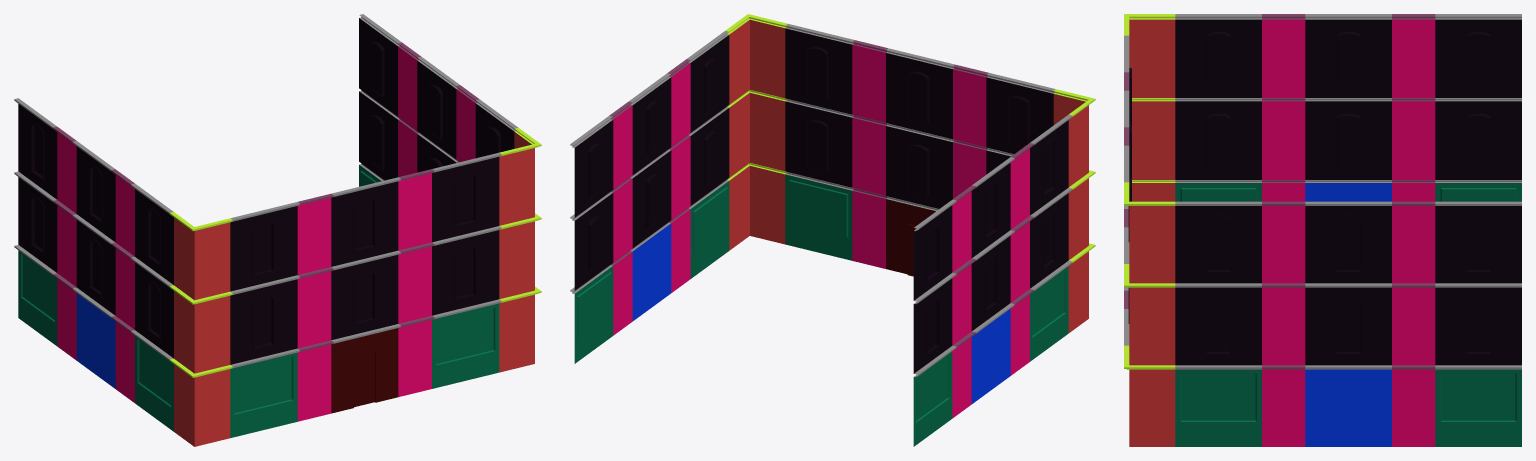
The model's file is Дом.FBX.
3 renders of one model, left to right at view 1: azimuth 30°, elevation 25°; view 2: azimuth 150°, elevation 25°; view 3: azimuth 270°, elevation 25°, orthographic. The views are drawn at different scales.
Visible parts, largest first — view 1: Окно_005, Окно_009, Окно_020, Окно_021, Окно_022, Окно_007, Окно_008, Окно_010, Дверь_002, Угол_П005, Угол_П006, Угол_П004 (+32 smaller); view 2: Окно_008, Окно_010, Окно_005, Окно_009, Окно_007, Окно_022, Угол_П001, Угол_П003, Угол_П002, Окно_013, Окно_014, Окно_017 (+36 smaller); view 3: Окно_014, Окно_015, Окно_019, Окно_025, Окно_026, Окно_027, Окно_028, Окно_029, Окно_030, Окно_012, Окно_013, Окно_016 (+37 smaller).
Part boxes in pixels (x1,y1,x2,y2): Окно_005: (432, 303, 499, 388); Окно_009: (331, 181, 398, 266); Окно_020: (230, 352, 297, 437); Окно_021: (230, 279, 297, 364); Окно_022: (230, 206, 297, 291); Окно_007: (331, 255, 398, 339); Окно_008: (432, 230, 499, 315); Окно_010: (432, 157, 499, 242); Дверь_002: (331, 328, 398, 413); Угол_П005: (174, 291, 230, 373); Угол_П006: (174, 218, 230, 300); Угол_П004: (174, 364, 230, 446); Окно_008: (785, 101, 852, 187); Окно_010: (785, 28, 852, 114); Окно_005: (785, 174, 852, 260); Окно_009: (886, 53, 952, 139); Окно_007: (886, 126, 952, 208); Окно_022: (986, 77, 1053, 153); Угол_П001: (729, 166, 785, 250); Угол_П003: (729, 19, 785, 104); Угол_П002: (729, 93, 785, 177); Окно_013: (690, 181, 729, 278); Окно_014: (632, 150, 671, 248); Окно_017: (574, 120, 613, 217); Окно_014: (1305, 287, 1391, 365); Окно_015: (1435, 287, 1521, 365); Окно_019: (1175, 287, 1261, 365); Окно_025: (1305, 101, 1391, 179); Окно_026: (1175, 101, 1261, 179); Окно_027: (1305, 19, 1391, 97); Окно_028: (1175, 19, 1261, 97); Окно_029: (1435, 19, 1521, 97); Окно_030: (1435, 101, 1521, 179); Окно_012: (1435, 369, 1521, 446); Окно_013: (1175, 369, 1261, 446); Окно_016: (1305, 206, 1391, 283).
Size of the model in its own units: 13.17 by 7.94 by 11.67.
